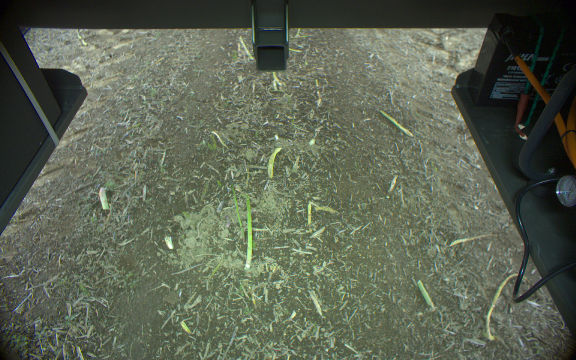aspa: (237, 188, 255, 270), (374, 108, 414, 138), (225, 174, 243, 235), (264, 144, 284, 181), (416, 278, 434, 310), (96, 185, 112, 212)
